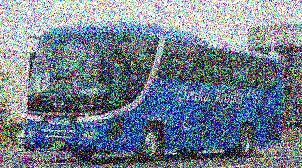bus: (26, 22, 285, 160)
